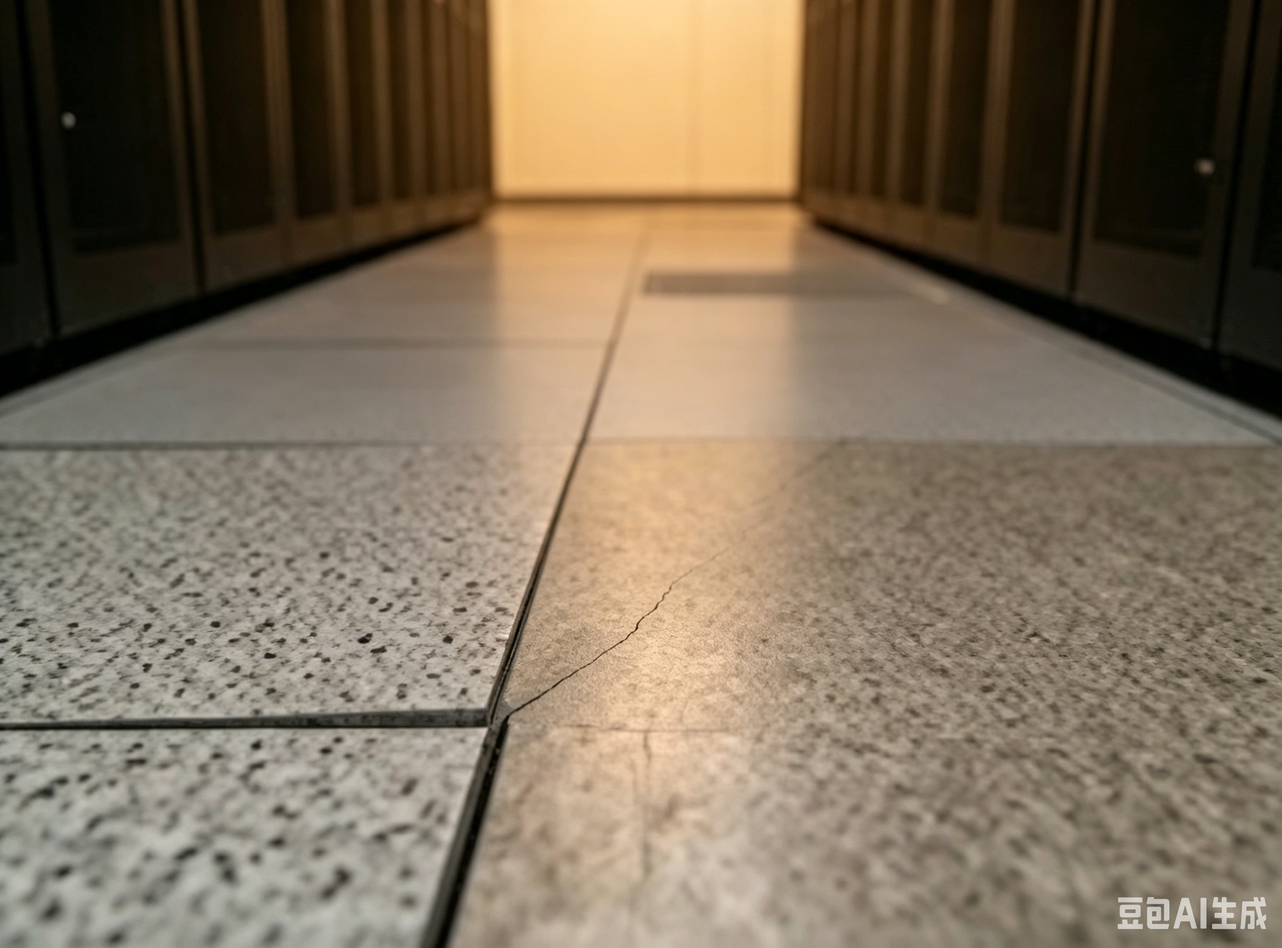floor_defect: (17, 697, 584, 747), (426, 744, 515, 936), (599, 601, 684, 649), (534, 654, 620, 697), (658, 558, 733, 601)
